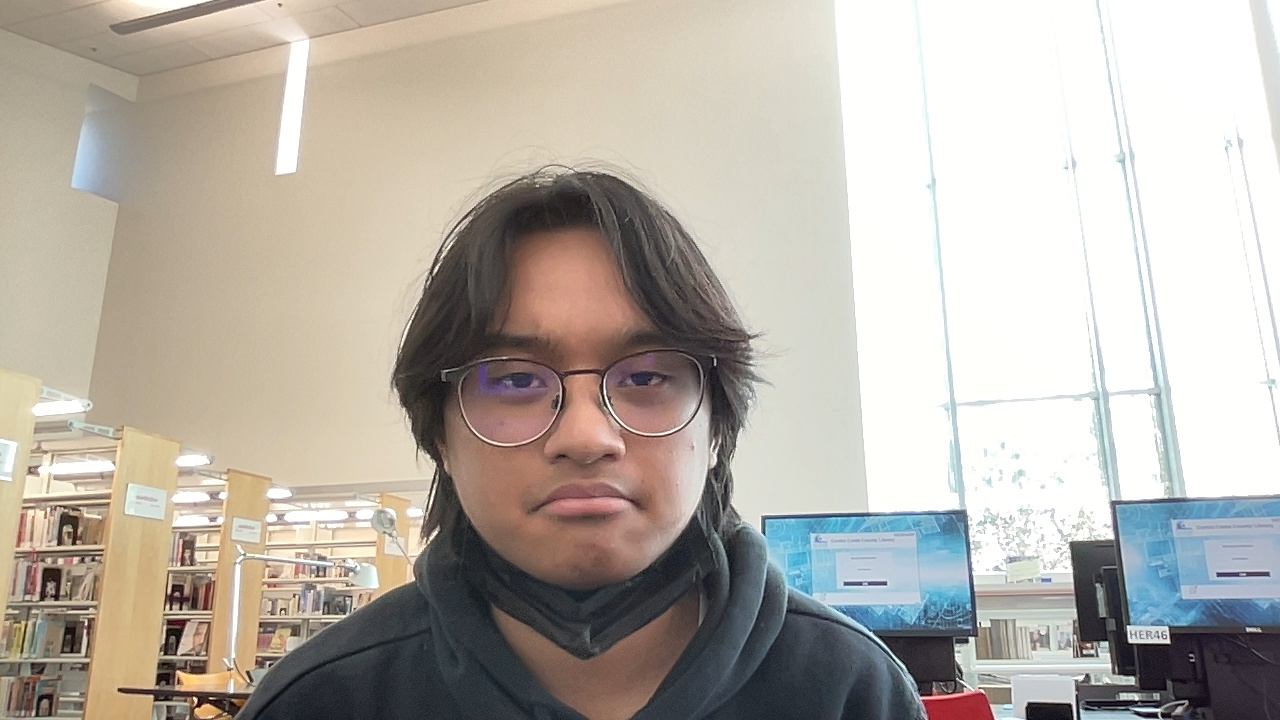sad: (423, 216, 725, 593)
